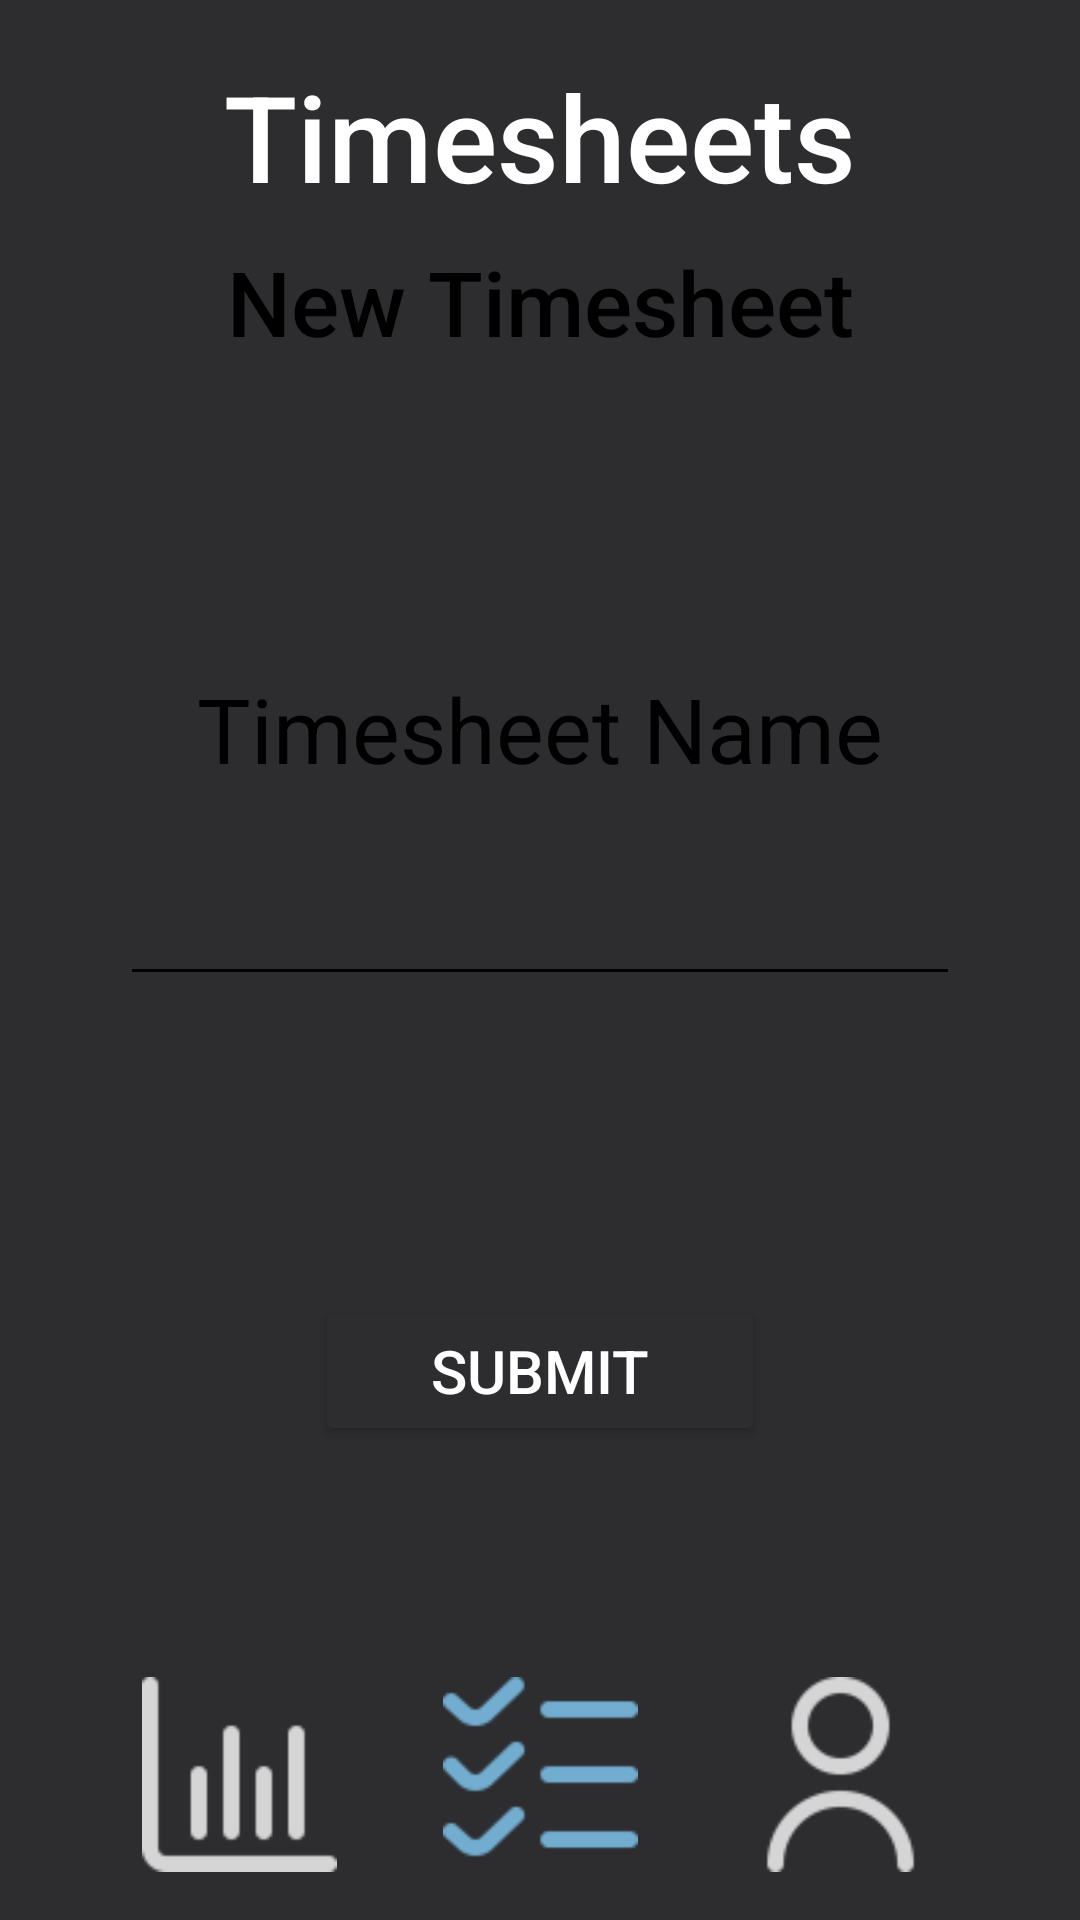

Where to tap for icons on this 1080px×1920px app screen, as point (x, y):
profileblack: point (840, 1774)
progressblack: point (239, 1774)
timehseetblue: point (540, 1767)
